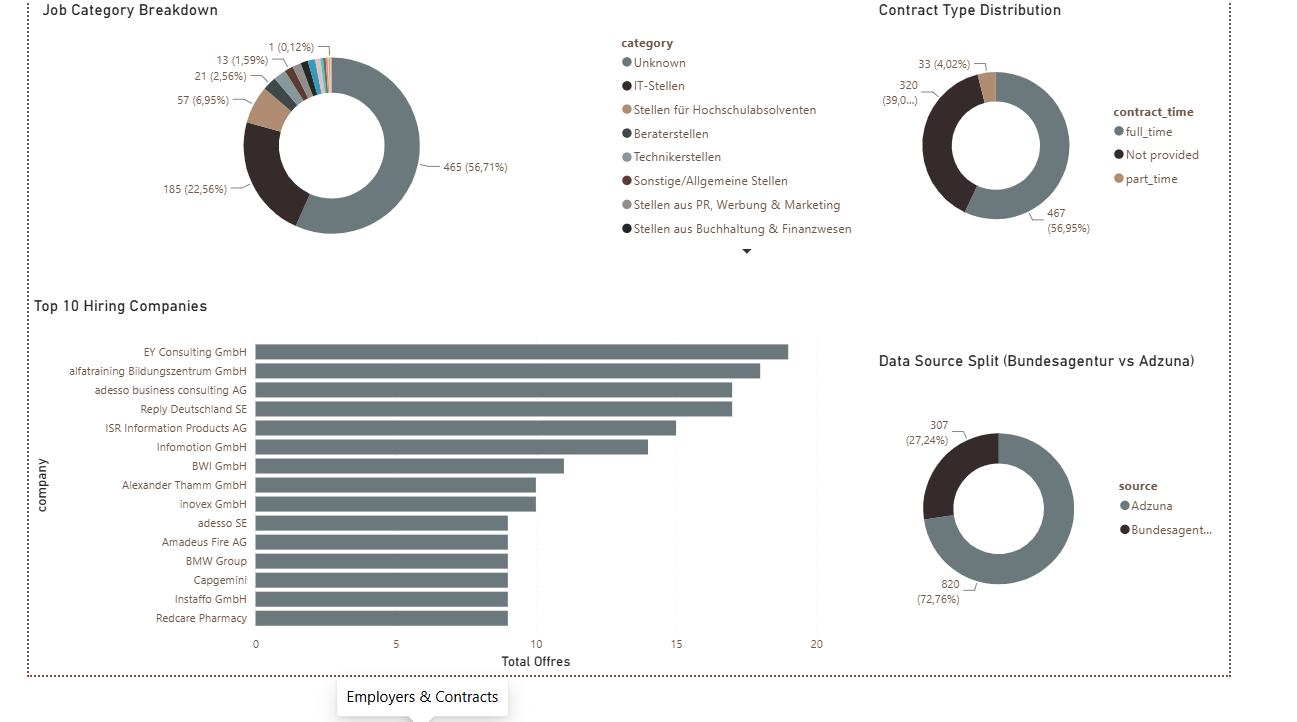

The dashboard page shown, as its layout file describes it:
{"tool":"powerbi","page":{"name":"Employers & Contracts","canvas":[1280,720],"ordinal":3},"visuals":[{"type":"donutChart","title":"Job Category Breakdown","fields":{"Category":["fact_job_offers.category"],"Y":["fact_job_offers.Total Offres"]},"box":[9.6,0,893.3,279.9],"z":0},{"type":"donutChart","title":"Contract Type Distribution","fields":{"Category":["fact_job_offers.contract_time"],"Y":["fact_job_offers.Total Offres"]},"box":[916.6,0,363,280],"z":1000},{"type":"clusteredBarChart","title":"Top 10 Hiring Companies","fields":{"Category":["dim_company.company"],"Y":["fact_job_offers.Total Offres"]},"box":[9.6,299.1,871.4,421.3],"z":2000},{"type":"donutChart","title":"Data Source Split (Bundesagentur vs Adzuna)","fields":{"Category":["fact_job_offers.source"],"Y":["fact_job_offers.Total Offres"]},"box":[902.9,382.8,377.4,306],"z":3000}]}

Visuals, with their boxes in screenshot pixels (x1, y1, x2, y2), scaled from the page's 1280x720 canvas onto the 1297x722 screenshot:
"Job Category Breakdown" donutChart: 10, 0, 915, 281
"Contract Type Distribution" donutChart: 929, 0, 1296, 281
"Top 10 Hiring Companies" clusteredBarChart: 10, 300, 893, 721
"Data Source Split (Bundesagentur vs Adzuna)" donutChart: 915, 384, 1296, 691
